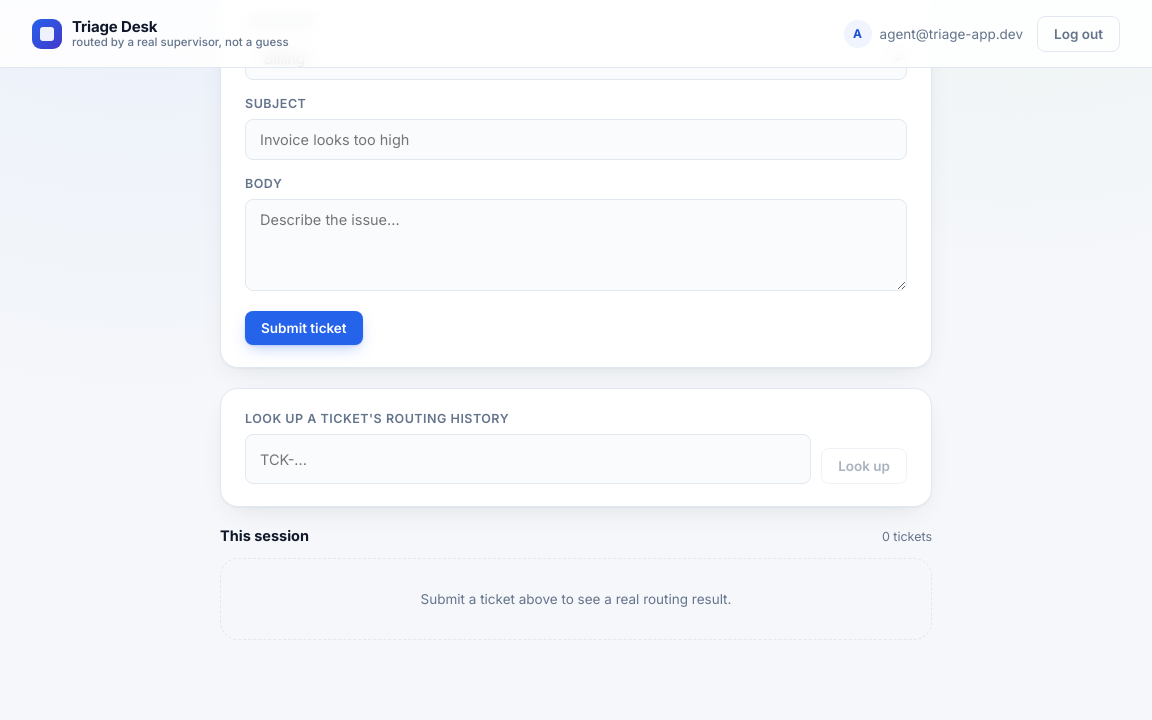
Test case: Dashboard › shows a plain empty message when a looked-up ticket does not exist
This screenshot has width=1152, height=720.
(page scrolled)
Type "no-such-ticket" into the field labelled "Look up a ticket's routing history" at (528, 459), box [245,434,811,484]
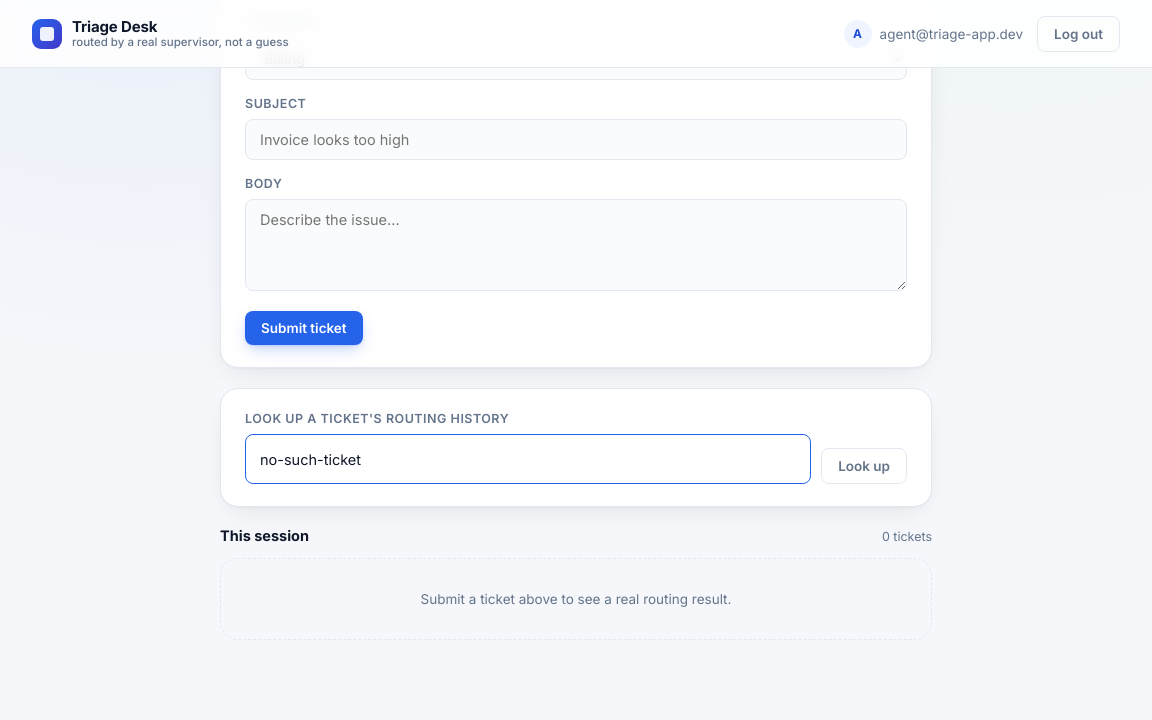
Click the button "Look up" at (864, 466), box [821,448,907,484]
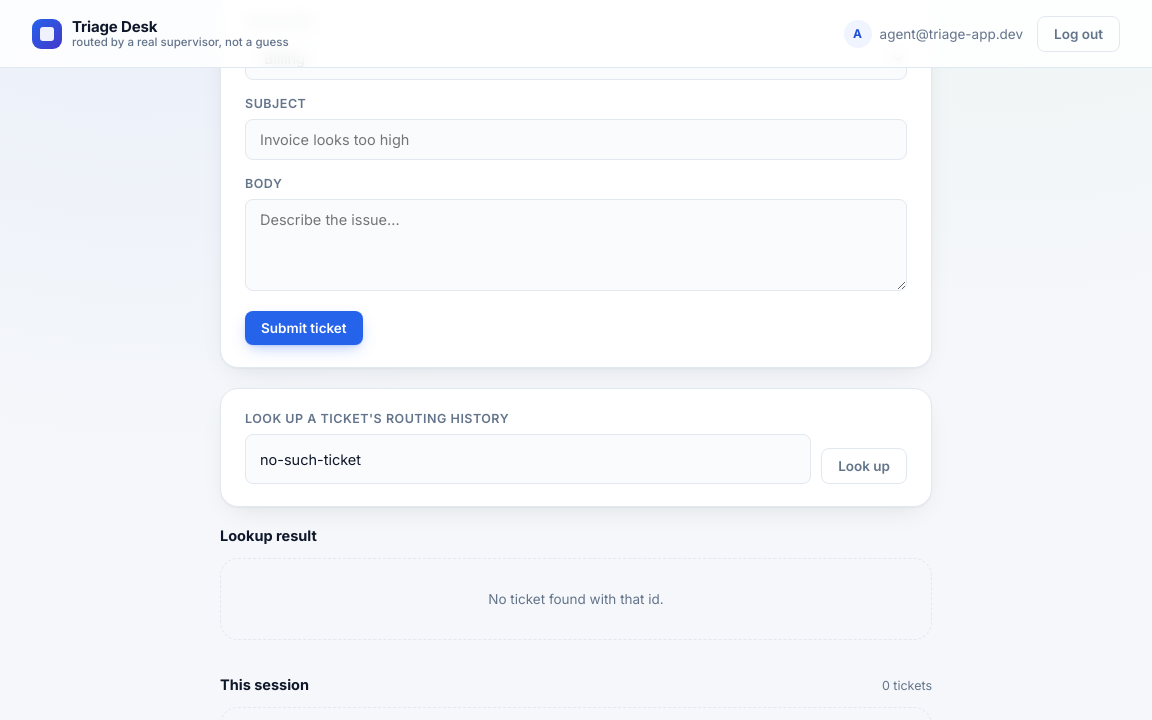
Check: the text "No ticket found with that id." is shown, box [220,558,932,640]
